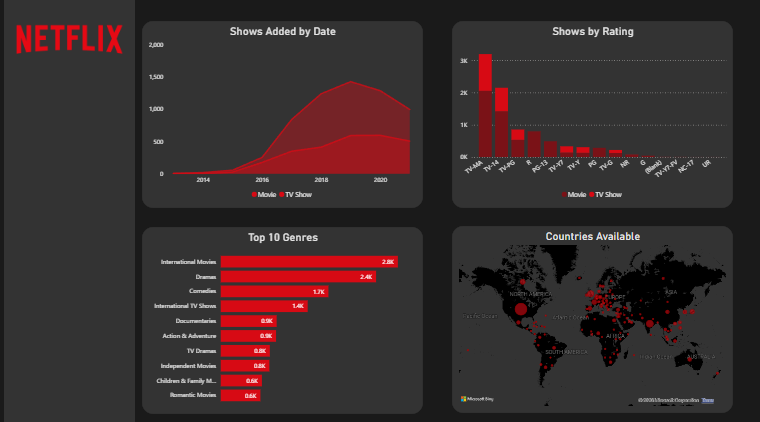

The page's visual inventory and layout, read from the dashboard file:
{"tool":"powerbi","page":{"name":"Overview","canvas":[1500,900],"ordinal":0},"visuals":[{"type":"shape","box":[9.8,0,257.9,899.6],"z":0},{"type":"areaChart","title":"Shows Added by Date","fields":{"Y":["CountNonNull(netflix_data titles.show_id)"],"Category":["netflix_data titles.date_added.Variation.Date Hierarchy.Year"],"Series":["netflix_data titles.type"]},"box":[281.5,108.3,553.1,368.1],"z":1000},{"type":"clusteredBarChart","title":"Top 10 Genres ","fields":{"Category":["netflix_data netflix_listed_in.category"],"Y":["CountNonNull(netflix_data netflix_listed_in.show_id)"]},"box":[281.5,513.8,553.1,368.1],"z":2000},{"type":"columnChart","title":"Shows by Rating","fields":{"Category":["netflix_data titles.rating"],"Y":["CountNonNull(netflix_data titles.show_id)"],"Series":["netflix_data titles.type"]},"box":[891.7,108.3,553.1,368.1],"z":3000},{"type":"map","title":"Countries Available ","fields":{"Category":["netflix_data countries_released.country"],"Size":["CountNonNull(netflix_data countries_released.show_id)"]},"box":[891.7,511.8,553.1,368.1],"z":4000},{"type":"image","box":[9.8,68.9,257.9,143.7],"z":5000}]}

Visuals, with their boxes on the page's 1500x900 design canvas (x1, y1, x2, y2). These are canvas units, not pixel positions in the 760x422 screenshot, which may show the page scaled, cropped or inside an application window:
shape: l=10, t=0, r=268, b=900
"Shows Added by Date" areaChart: l=282, t=108, r=835, b=476
"Top 10 Genres " clusteredBarChart: l=282, t=514, r=835, b=882
"Shows by Rating" columnChart: l=892, t=108, r=1445, b=476
"Countries Available " map: l=892, t=512, r=1445, b=880
image: l=10, t=69, r=268, b=213
